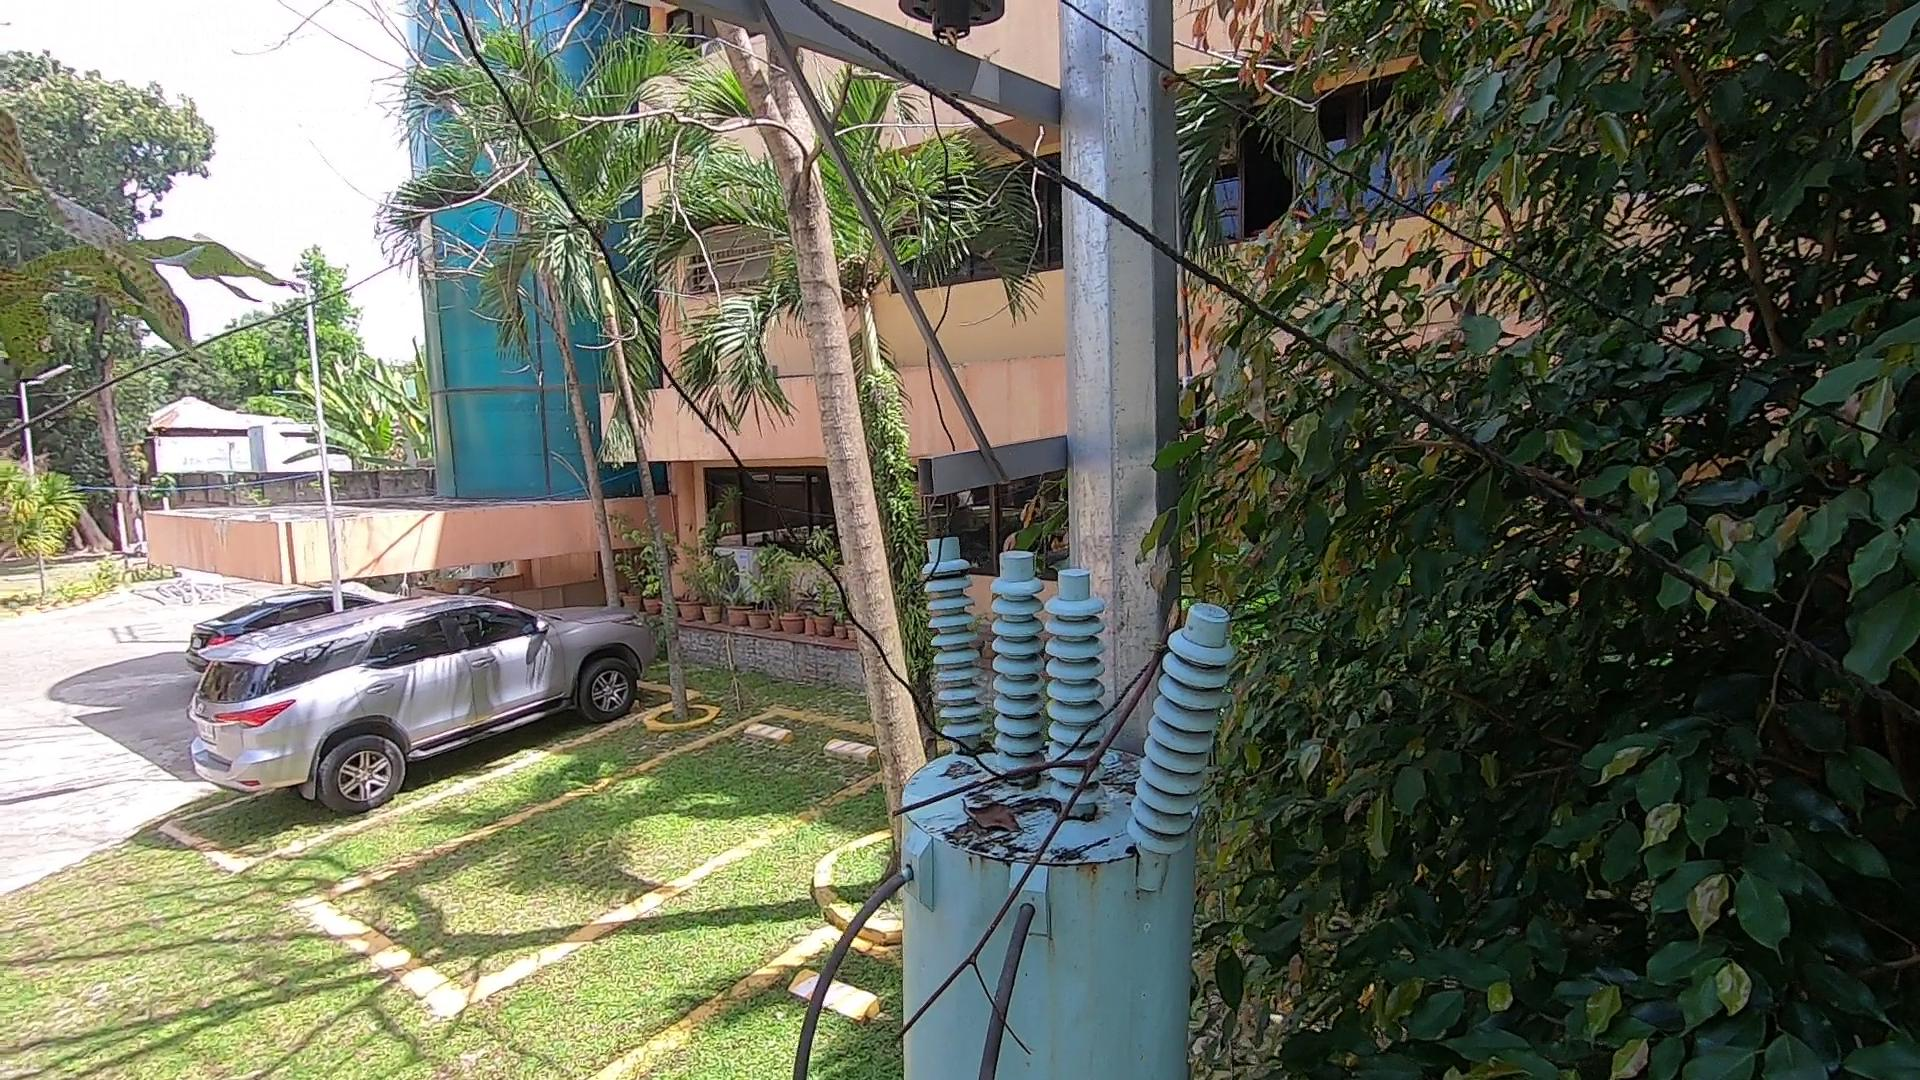leaf: (961, 803, 1036, 841)
tree branch: (852, 578, 1247, 1052)
